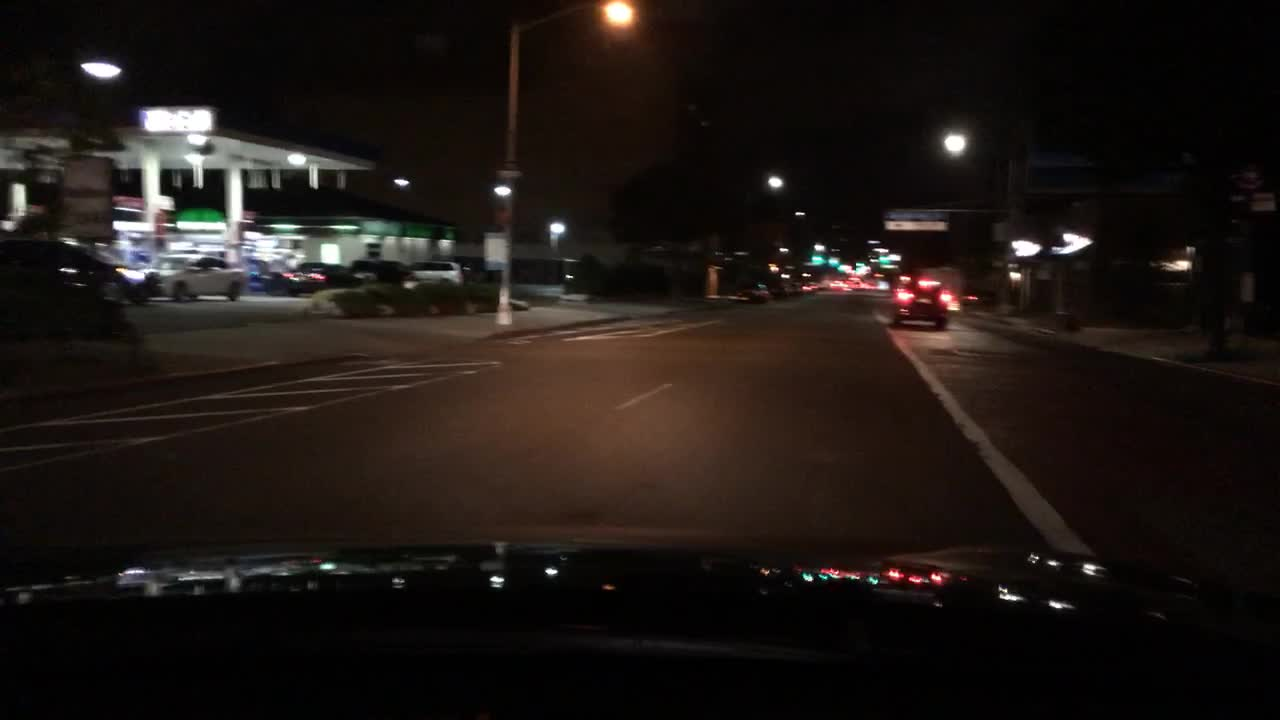car: (0, 237, 136, 319), (132, 253, 248, 305), (887, 270, 947, 333), (407, 258, 491, 289), (279, 260, 351, 293), (237, 249, 291, 293), (344, 254, 415, 286), (134, 253, 204, 277), (178, 242, 237, 265), (251, 244, 304, 263), (734, 282, 772, 307), (945, 289, 966, 319), (783, 275, 804, 296), (765, 282, 786, 298), (870, 279, 894, 291), (824, 277, 844, 291), (849, 282, 866, 298), (800, 282, 818, 296), (865, 277, 880, 291), (812, 279, 826, 293), (840, 277, 854, 289)
traffic light: (492, 183, 512, 200), (826, 256, 844, 270), (811, 254, 828, 268), (877, 254, 891, 266)
traffic sign: (1235, 156, 1269, 193), (880, 219, 949, 235), (884, 209, 954, 223), (1249, 191, 1277, 214), (491, 167, 522, 179), (877, 261, 901, 272), (866, 256, 887, 265)
